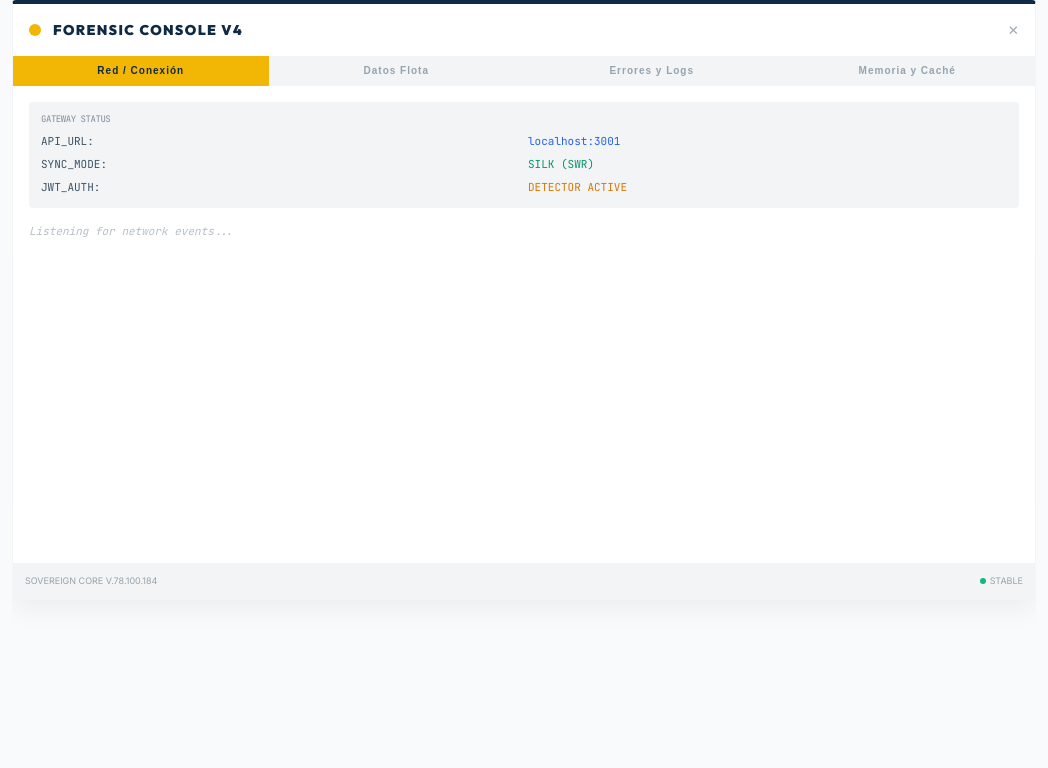
Test: ArchonDoctor — controlled open/close (FC172) › defaults to the NET tab and switches to DATA/ERR/CACHE on click
The width and height of the screenshot is (1048, 768).
expect the text "Listening for network events..." is shown: met, box [29,224,234,238]
Click the button "Datos Flota" at [396, 71], box [268,56,524,86]
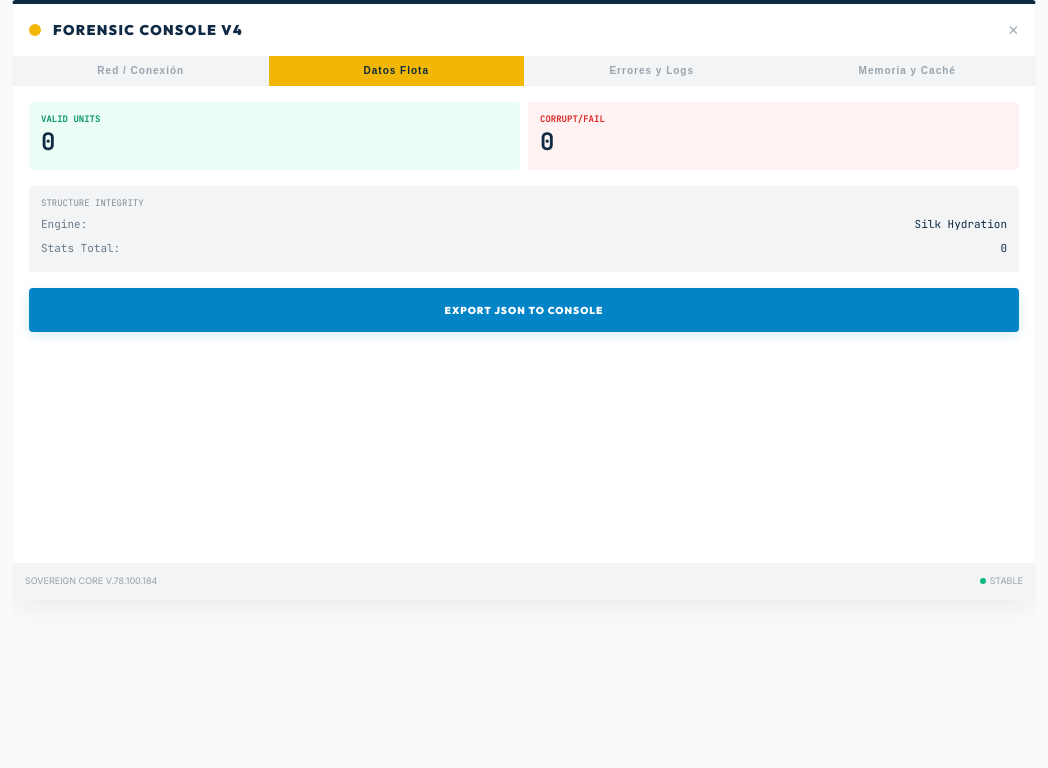
expect the text "Valid Units" is shown: met, box [41,113,100,125]
Click the button "Errores y Logs" at [652, 71], box [524,56,780,86]
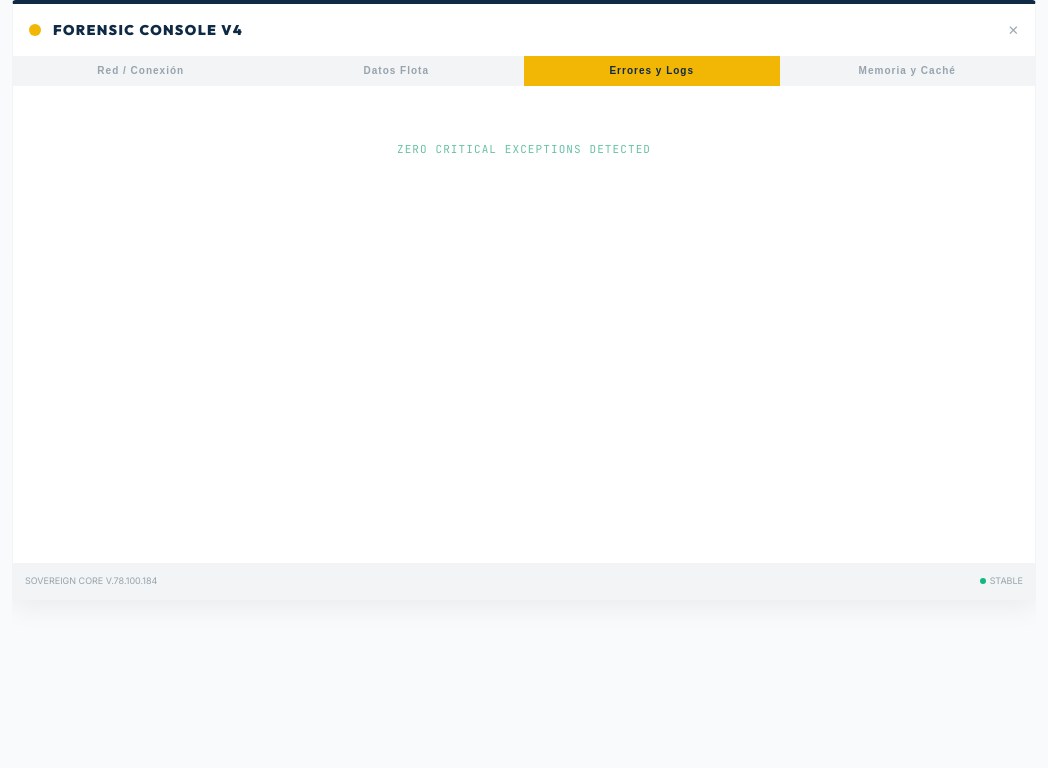
expect the text "ZERO CRITICAL EXCEPTIONS DETECTED" is shown: met, box [397,142,651,156]
Click the button "Memoria y Caché" at [907, 71], box [780,56,1035,86]
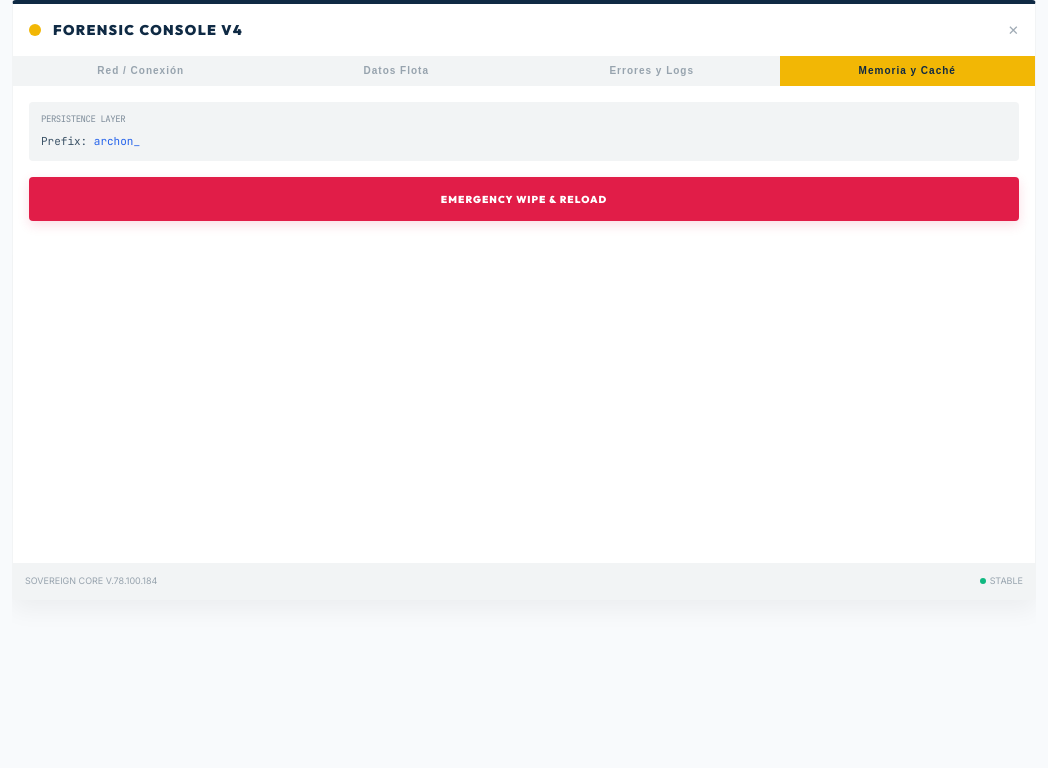
expect the button "Emergency Wipe & Reload" is shown: met, box [29,177,1019,221]
Click the button "Red / Conexión" at [141, 71], box [13,56,268,86]
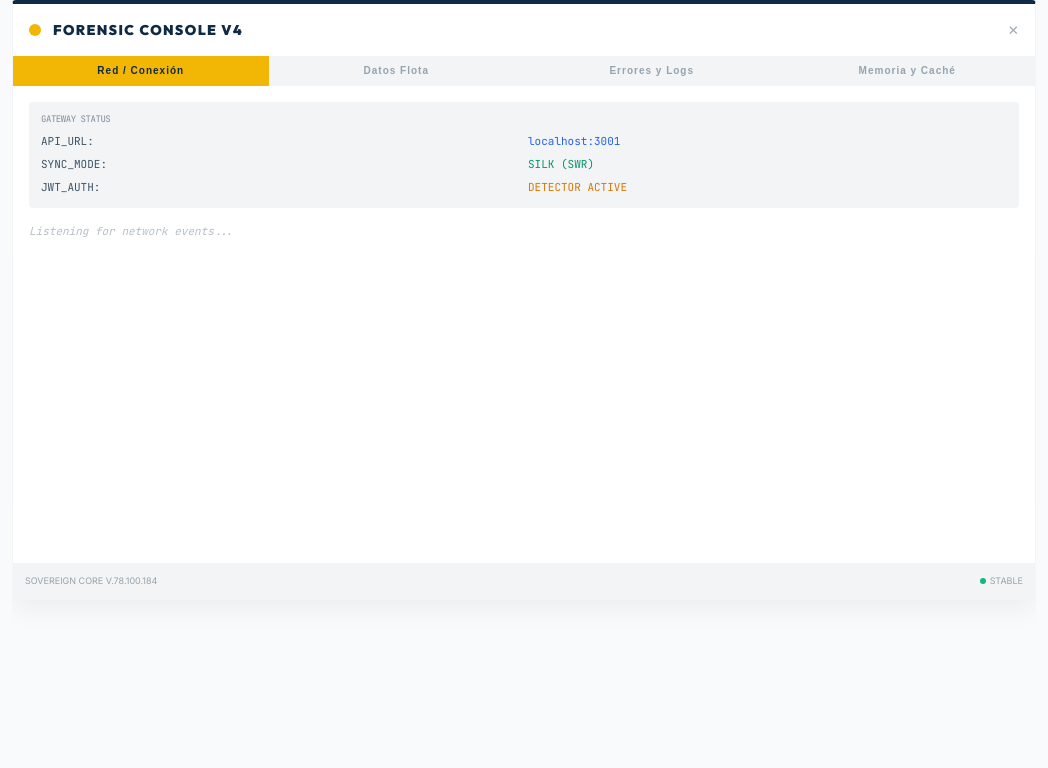
expect the text "Listening for network events..." is shown: met, box [29,224,234,238]
